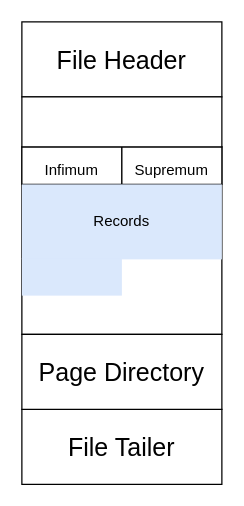
This 244x506 diagram has some shape labels left out. The box of each missing label's shape, as (x1, y1, x2, y2) in pixels:
Page Free: (21, 146, 222, 334)
Page Header: (21, 96, 222, 147)
